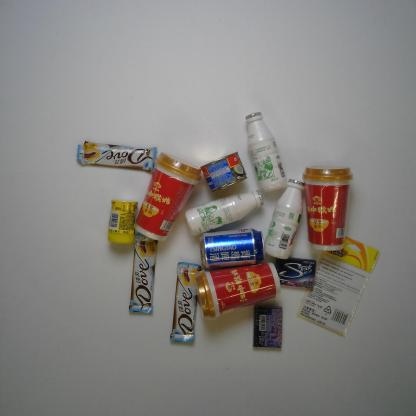Alcohol: (200, 224, 264, 268)
Canned Food: (202, 149, 247, 193)
Chocolate: (74, 140, 156, 174), (172, 261, 202, 346), (130, 228, 155, 312)
Gum: (102, 198, 142, 246), (251, 303, 284, 350), (272, 254, 315, 289)
Instant Drink: (135, 152, 201, 241), (195, 259, 282, 320), (302, 160, 354, 254)
Milk: (242, 107, 289, 196), (186, 186, 265, 236), (260, 176, 304, 263)
Stationery: (300, 227, 382, 339)
